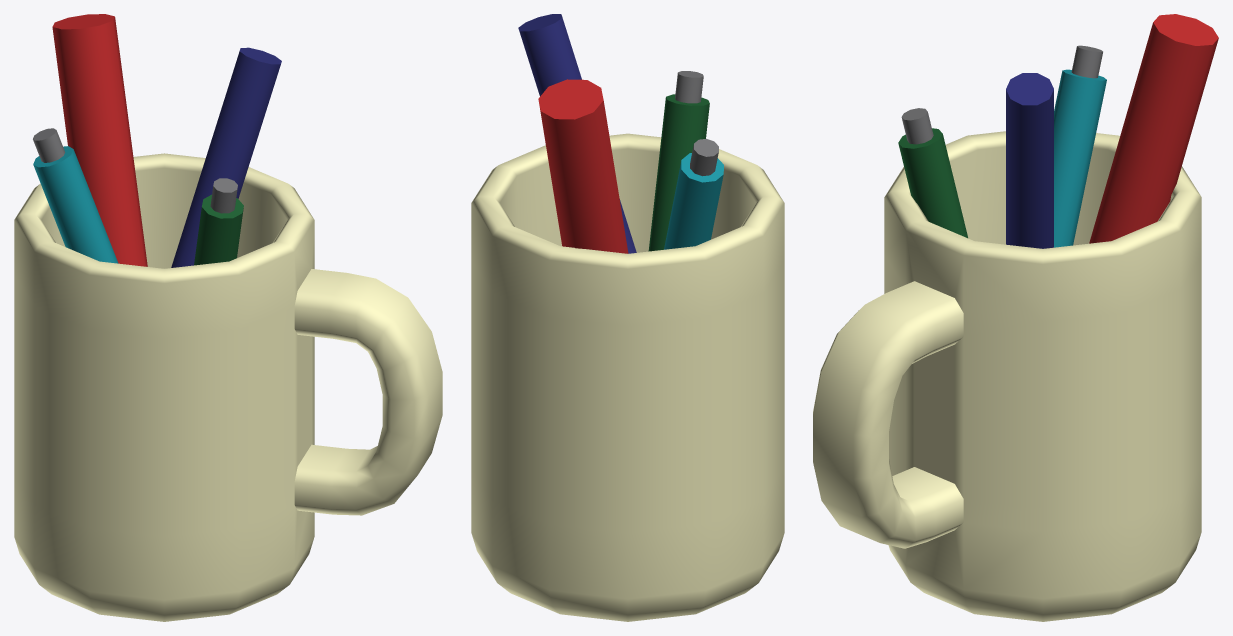
File: CiffeeMug_01.fbx
3 views of the same model, side by side, from view 1: azimuth 30°, elevation 25°; view 2: azimuth 150°, elevation 25°; view 3: azimuth 270°, elevation 25° (orthographic). The views are drawn at different scales.
Visible parts, largest first — view 1: CiffeeMug_01; view 2: CiffeeMug_01; view 3: CiffeeMug_01.
Part boxes in pixels (bbox=[...]): CiffeeMug_01: bbox=[14, 14, 442, 621]; CiffeeMug_01: bbox=[471, 14, 784, 621]; CiffeeMug_01: bbox=[813, 14, 1218, 621].
Bounding box in the file's own units: 21.79 × 33.4 × 22.76.
